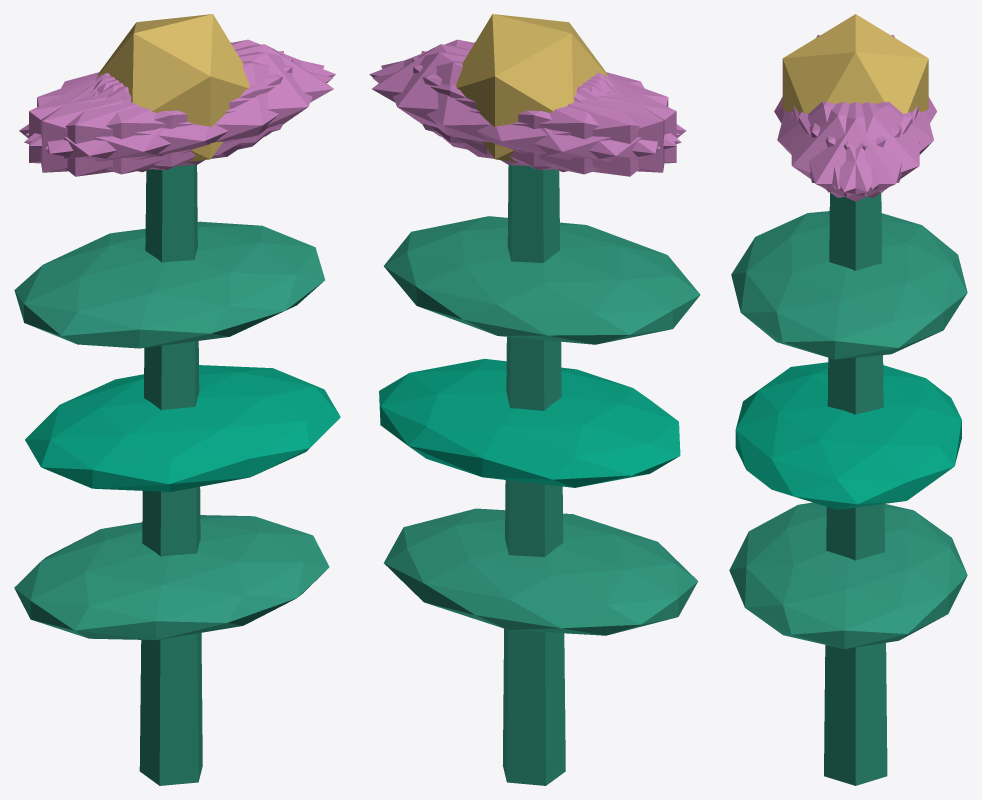
Rendered from andrographis-paniculata.glb.
The picture shows the model from 3 angles, left to right: view 1: azimuth 30°, elevation 25°; view 2: azimuth 150°, elevation 25°; view 3: azimuth 270°, elevation 25°; orthographic projection.
Visible parts, largest first — view 1: leaf2, leaf1, leaf0, stem, center, petal1, petal6, petal2, petal5, petal7, petal0, petal4 (+2 smaller); view 2: leaf2, leaf0, leaf1, stem, center, petal8, petal3, petal7, petal4, petal2, petal0, petal5 (+2 smaller); view 3: leaf2, leaf1, leaf0, stem, center, petal0, petal5, petal4, petal8, petal1.
Part boxes in pixels (bbox=[...]): leaf2: bbox=[14, 221, 324, 348]; leaf1: bbox=[25, 365, 340, 491]; leaf0: bbox=[14, 515, 329, 640]; stem: bbox=[139, 165, 202, 785]; center: bbox=[97, 14, 249, 161]; petal1: bbox=[24, 61, 332, 174]; petal6: bbox=[19, 74, 242, 176]; petal2: bbox=[41, 51, 283, 172]; petal5: bbox=[45, 52, 324, 166]; petal7: bbox=[29, 57, 292, 169]; petal0: bbox=[97, 44, 333, 155]; petal4: bbox=[25, 39, 335, 146]; leaf2: bbox=[384, 216, 700, 344]; leaf0: bbox=[384, 508, 698, 635]; leaf1: bbox=[379, 358, 680, 487]; stem: bbox=[502, 165, 565, 785]; center: bbox=[456, 14, 608, 161]; petal8: bbox=[372, 61, 681, 174]; petal3: bbox=[462, 74, 686, 176]; petal7: bbox=[421, 51, 664, 172]; petal4: bbox=[381, 52, 660, 166]; petal2: bbox=[412, 57, 676, 169]; petal0: bbox=[372, 44, 608, 155]; petal5: bbox=[369, 39, 679, 146]; leaf2: bbox=[731, 211, 967, 359]; leaf1: bbox=[735, 362, 961, 509]; leaf0: bbox=[729, 502, 967, 649]; stem: bbox=[824, 193, 887, 785]; center: bbox=[782, 14, 928, 113]; petal0: bbox=[793, 102, 918, 201]; petal5: bbox=[791, 102, 912, 197]; petal4: bbox=[798, 102, 920, 197]; petal8: bbox=[809, 101, 933, 189]; petal1: bbox=[777, 101, 901, 189].
Bounding box in the file's own units: 0.1452 × 0.3417 × 0.0999.
